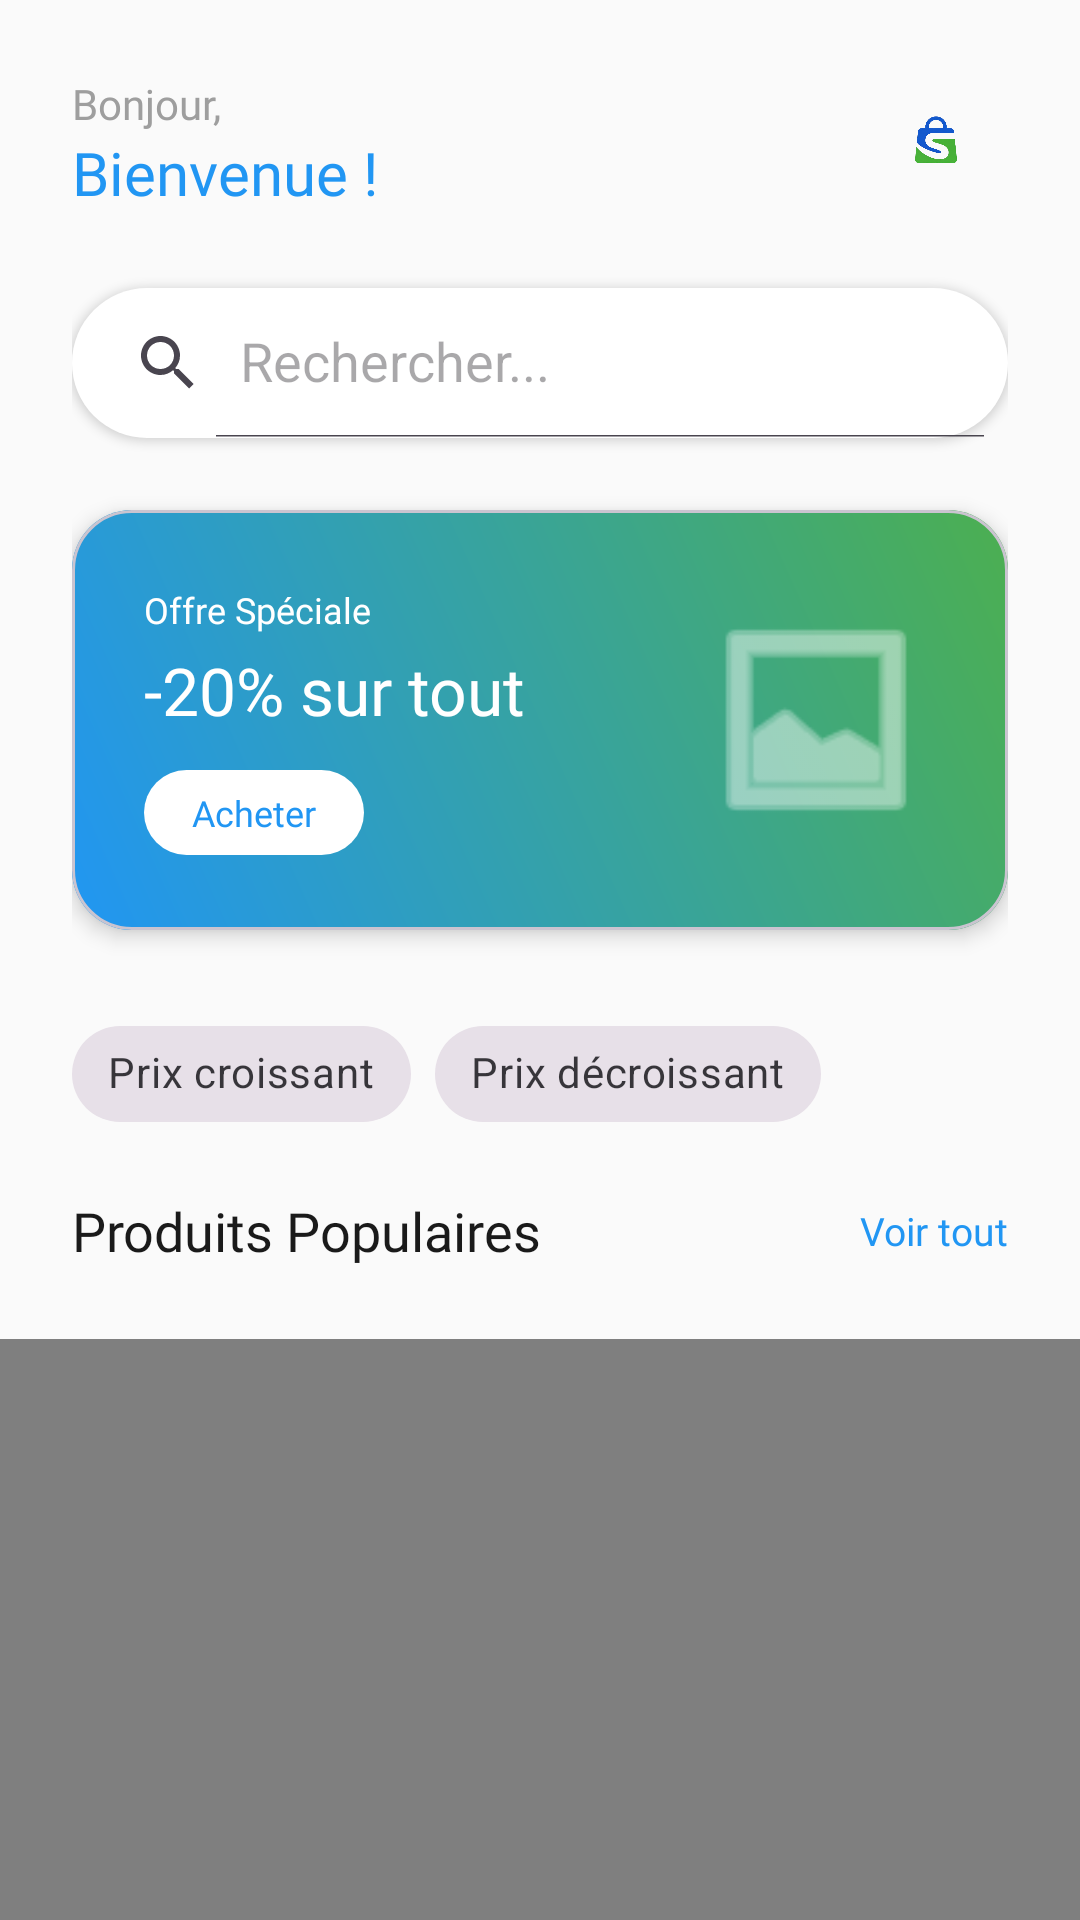

Screen size 1080x1920. Icon name, then its center in pixels as [x,y]:
gallery: [816,720]
